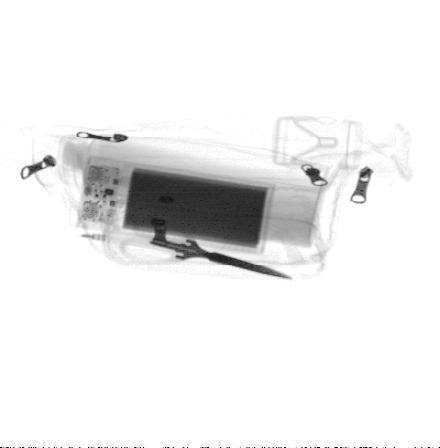Powerbank: (76, 153, 280, 257)
Scissors: (120, 200, 295, 284)
